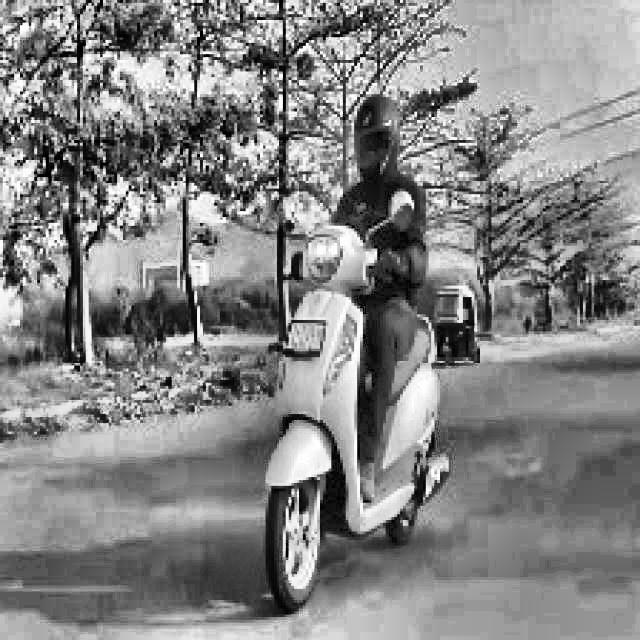motorcycle: (226, 189, 492, 606)
